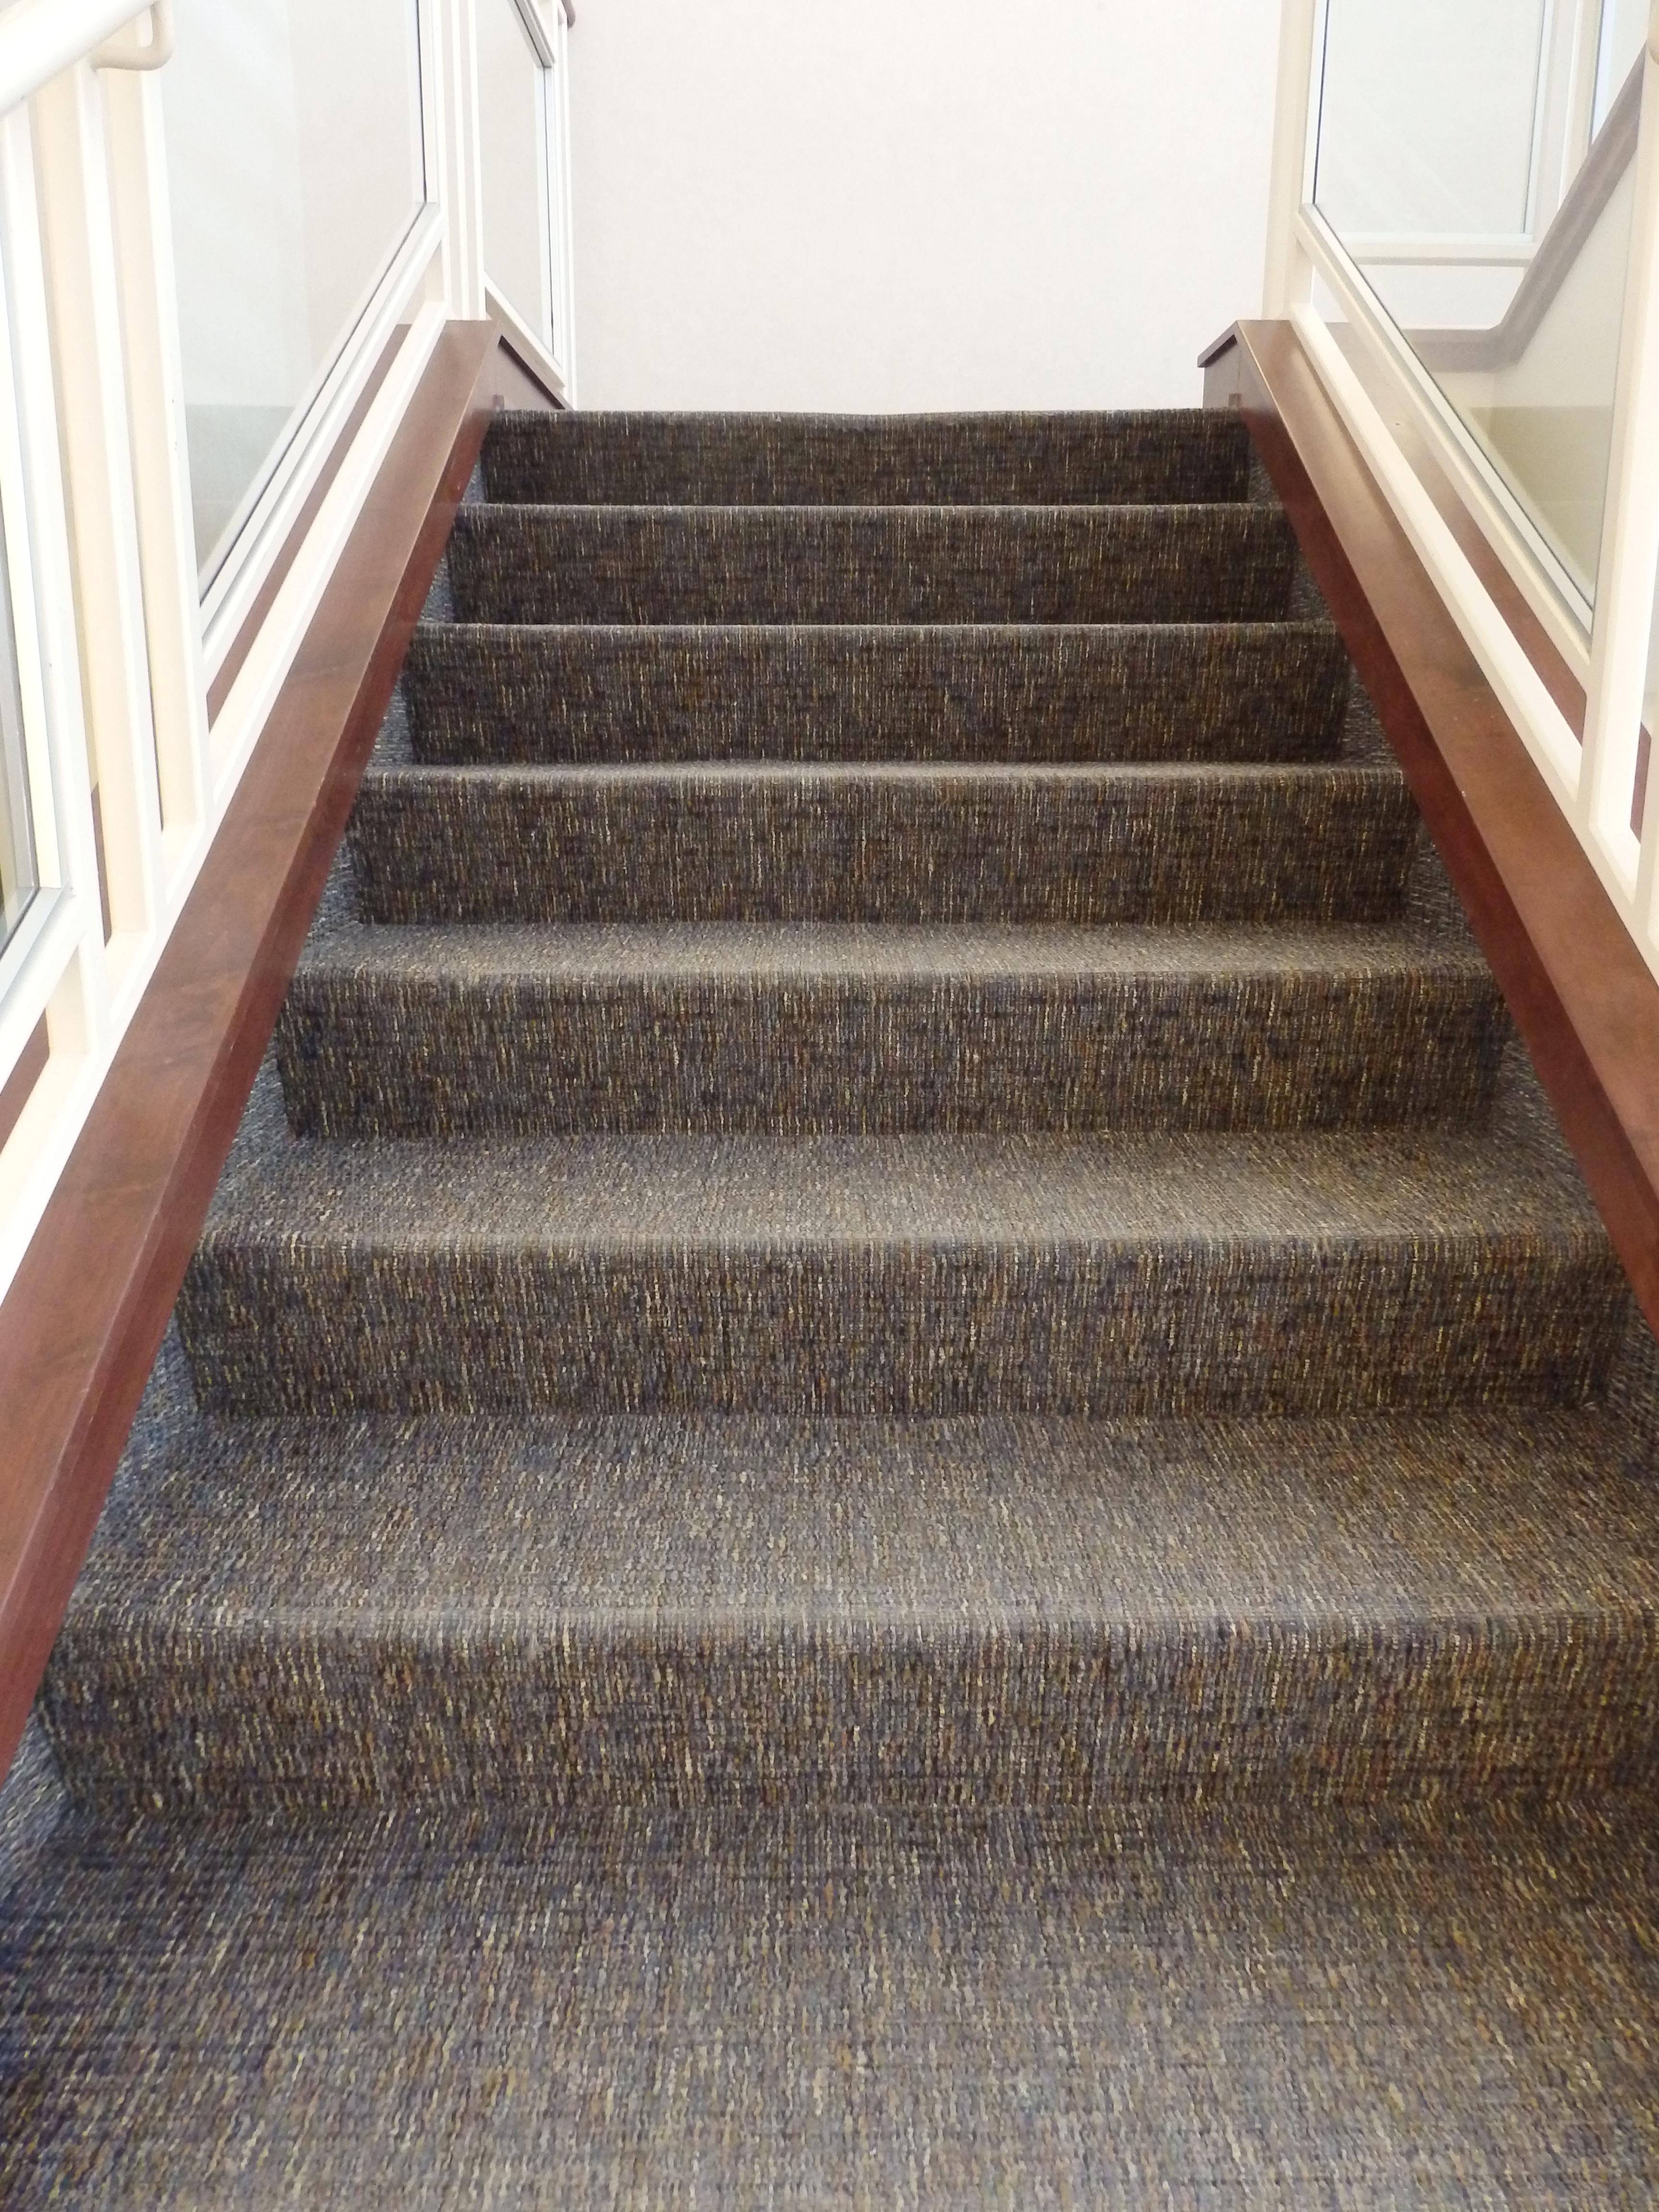stairs_up: (110, 380, 1642, 1714)
